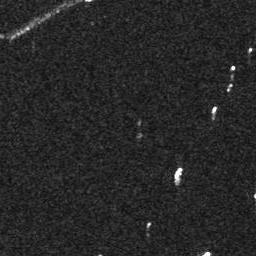ship: (173, 167, 182, 186), (211, 104, 217, 119)
